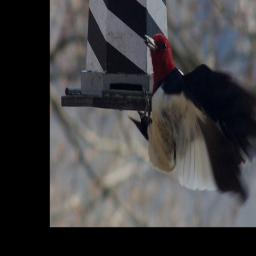Woodpecker: (132, 23, 256, 199)
